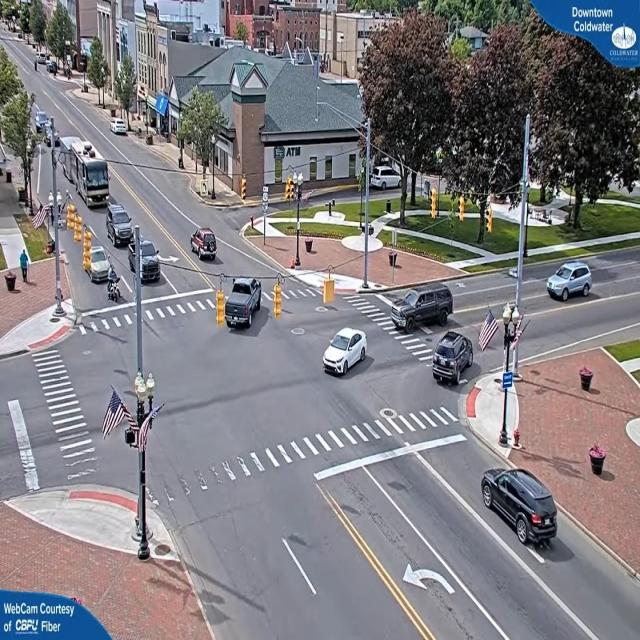car: (482, 467, 561, 549), (432, 334, 476, 388), (322, 330, 369, 378), (548, 261, 596, 303), (402, 286, 452, 326), (225, 275, 262, 329), (107, 210, 136, 246), (86, 246, 114, 282), (138, 241, 162, 283), (190, 228, 220, 260), (112, 121, 130, 138)
motorbike: (105, 270, 119, 304)
truck: (69, 144, 111, 211)
